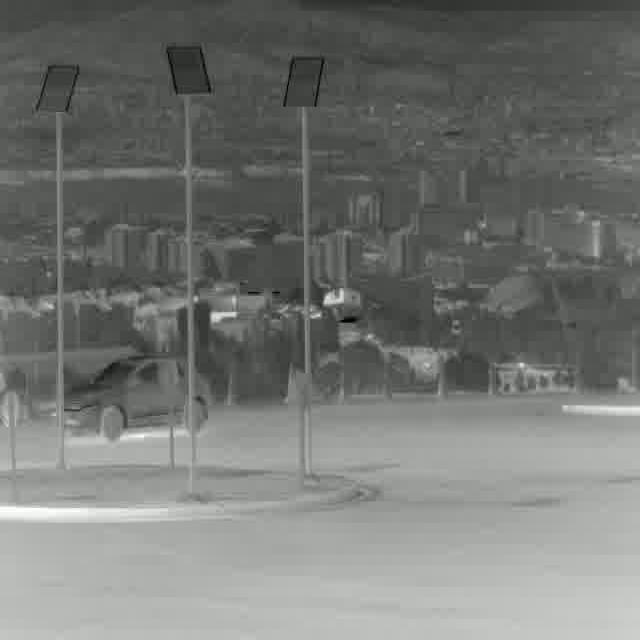Car: (63, 356, 208, 436)
